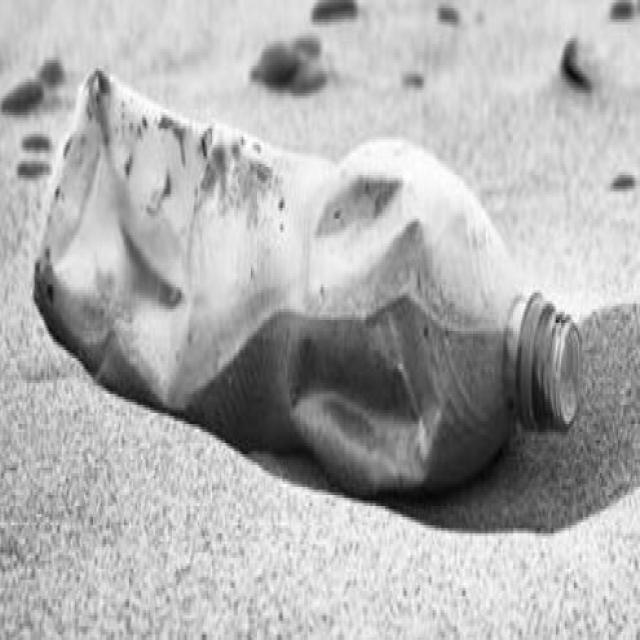general: (31, 63, 582, 498)
